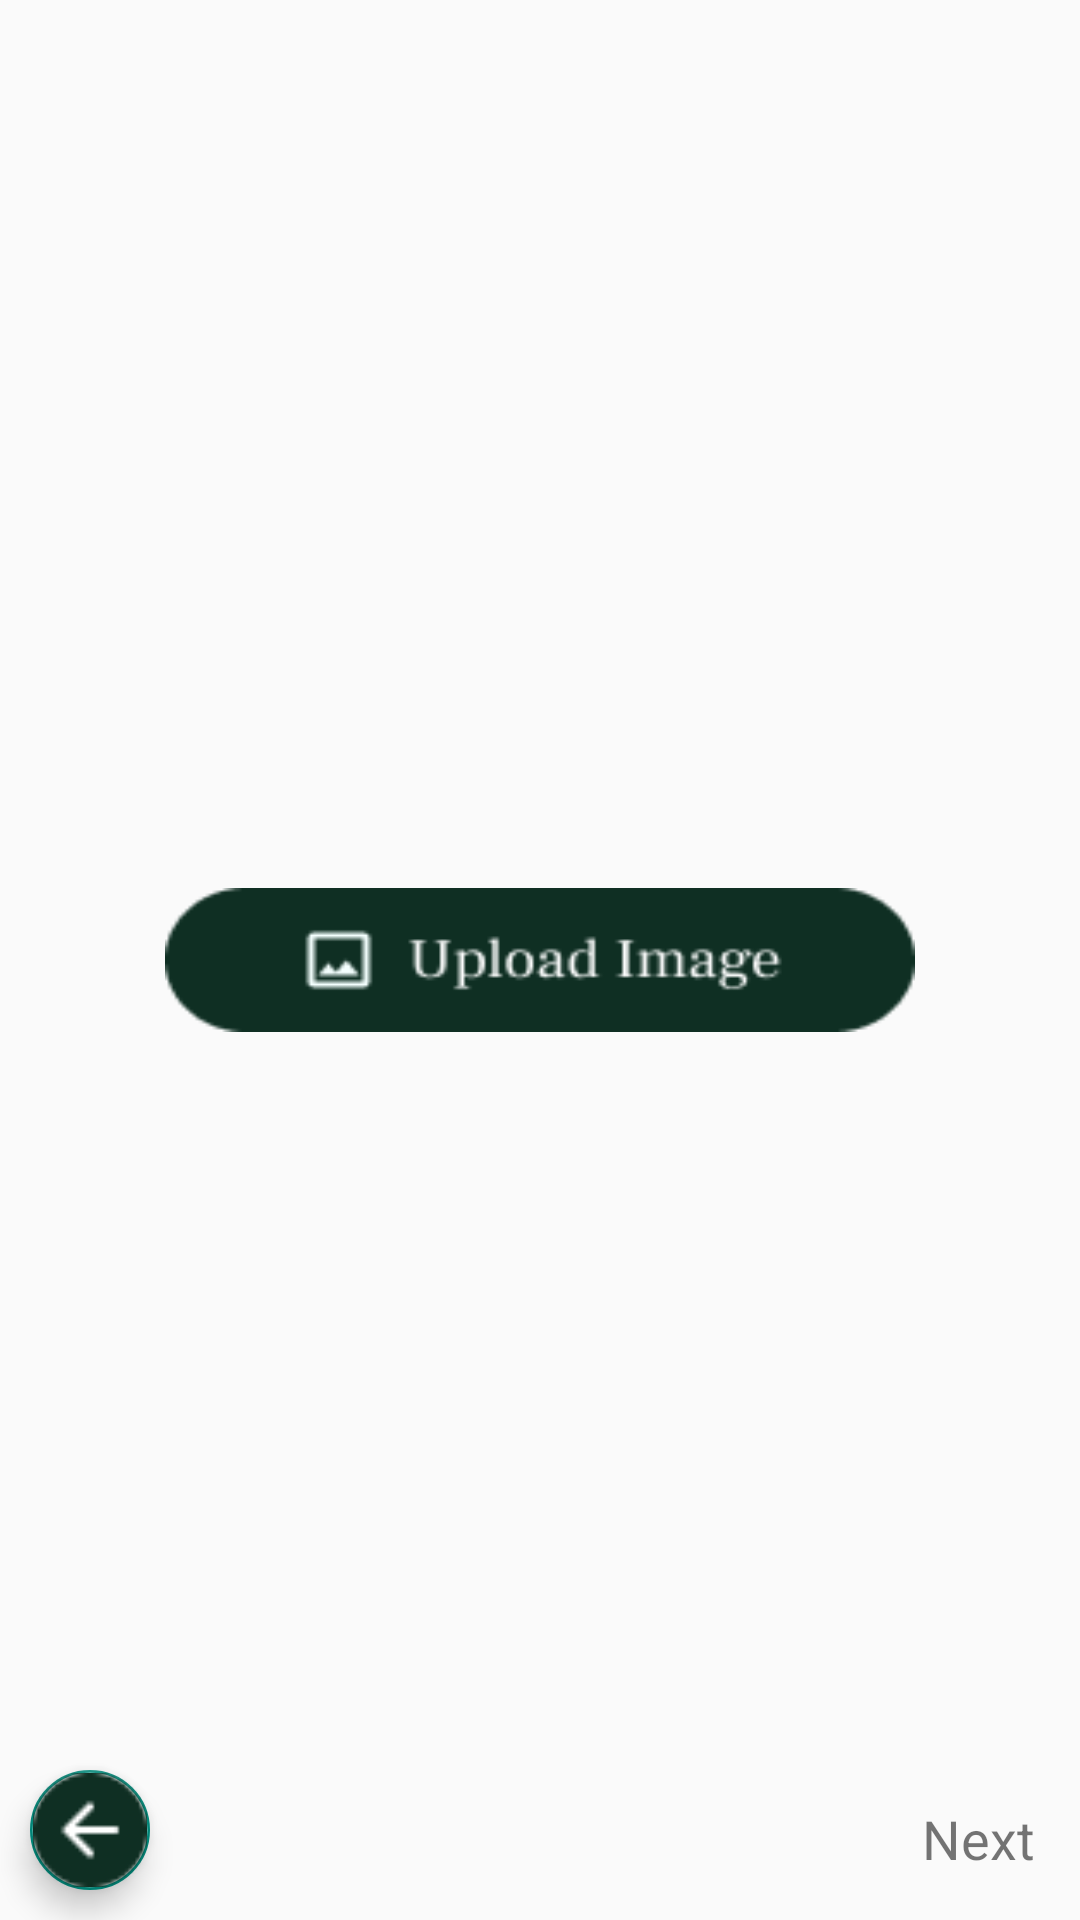

Icon click points for this 1080px x 1920px phone screenshot, format (x=x, y=y):
back: (x=90, y=1830)
